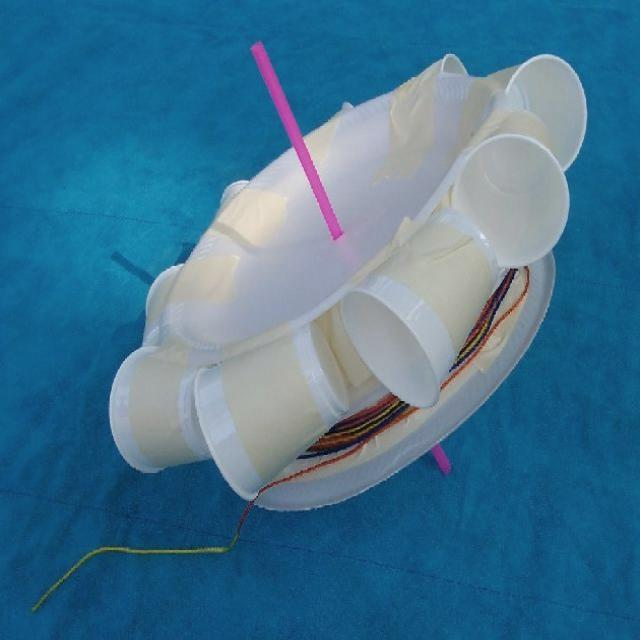Plastic: (195, 238, 556, 516), (214, 131, 440, 340), (342, 211, 508, 409), (190, 333, 341, 487), (449, 109, 572, 267), (467, 53, 594, 175), (104, 345, 208, 479)
Trash: (249, 42, 350, 243)
